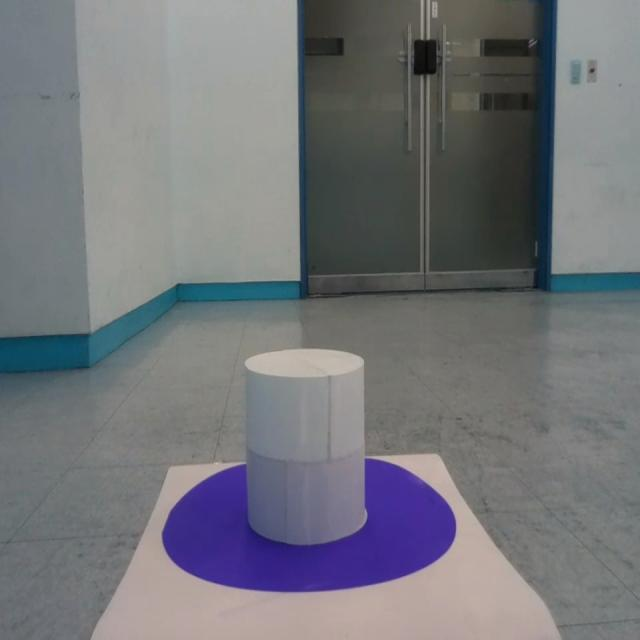cylinder: (244, 348, 368, 546)
